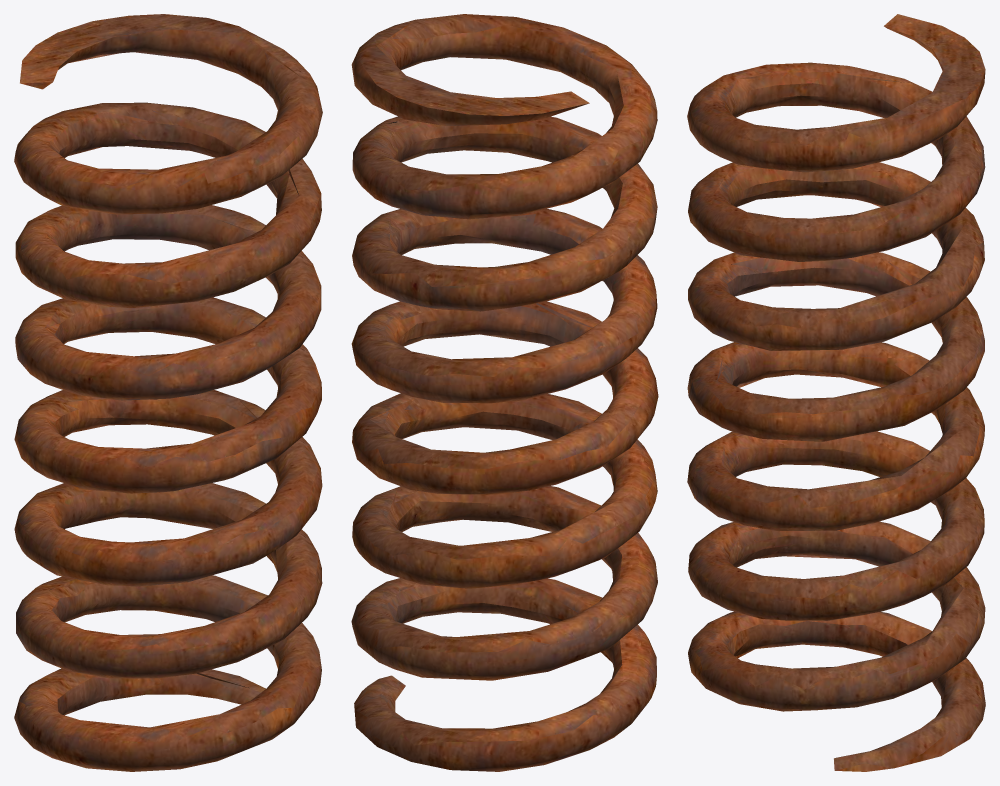
File: coil_spring.glb
The picture shows the model from 3 angles, left to right: view 1: azimuth 30°, elevation 25°; view 2: azimuth 150°, elevation 25°; view 3: azimuth 270°, elevation 25°; orthographic projection. The views are drawn at different scales.
Parts seen in each view (by area): view 1: coil_spring; view 2: coil_spring; view 3: coil_spring.
Part boxes in pixels (bbox=[...]): coil_spring: bbox=[14, 14, 322, 771]; coil_spring: bbox=[351, 14, 658, 771]; coil_spring: bbox=[687, 14, 985, 771].
Size of what is drawn, in the model's own units: 0.1054 by 0.25 by 0.1054.
Materials: 1 (1 with a texture image).
